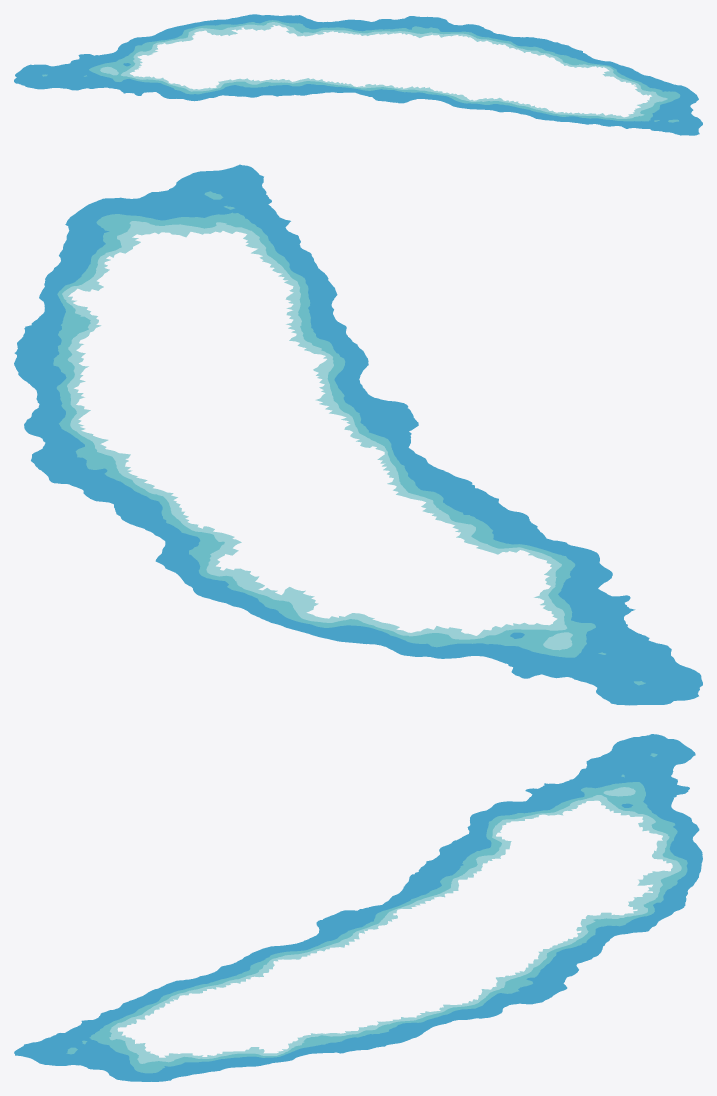
File: Isl-long3-Water.fbx
The picture shows the model from 3 angles, top to bottom: view 1: azimuth 30°, elevation 25°; view 2: azimuth 150°, elevation 25°; view 3: azimuth 270°, elevation 25°; orthographic projection. The views are drawn at different scales.
Visible parts, largest first — view 1: Isl-long3-Water; view 2: Isl-long3-Water; view 3: Isl-long3-Water.
Part boxes in pixels (x1,y1,x2,y2): Isl-long3-Water: [14, 14, 702, 135]; Isl-long3-Water: [14, 164, 702, 705]; Isl-long3-Water: [14, 734, 702, 1081].
Size of the model in its own units: 174 by 0 by 145.
